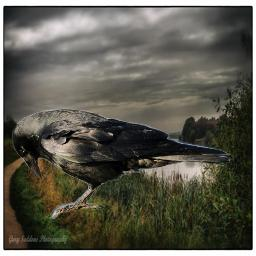Crow: (12, 108, 233, 219)
